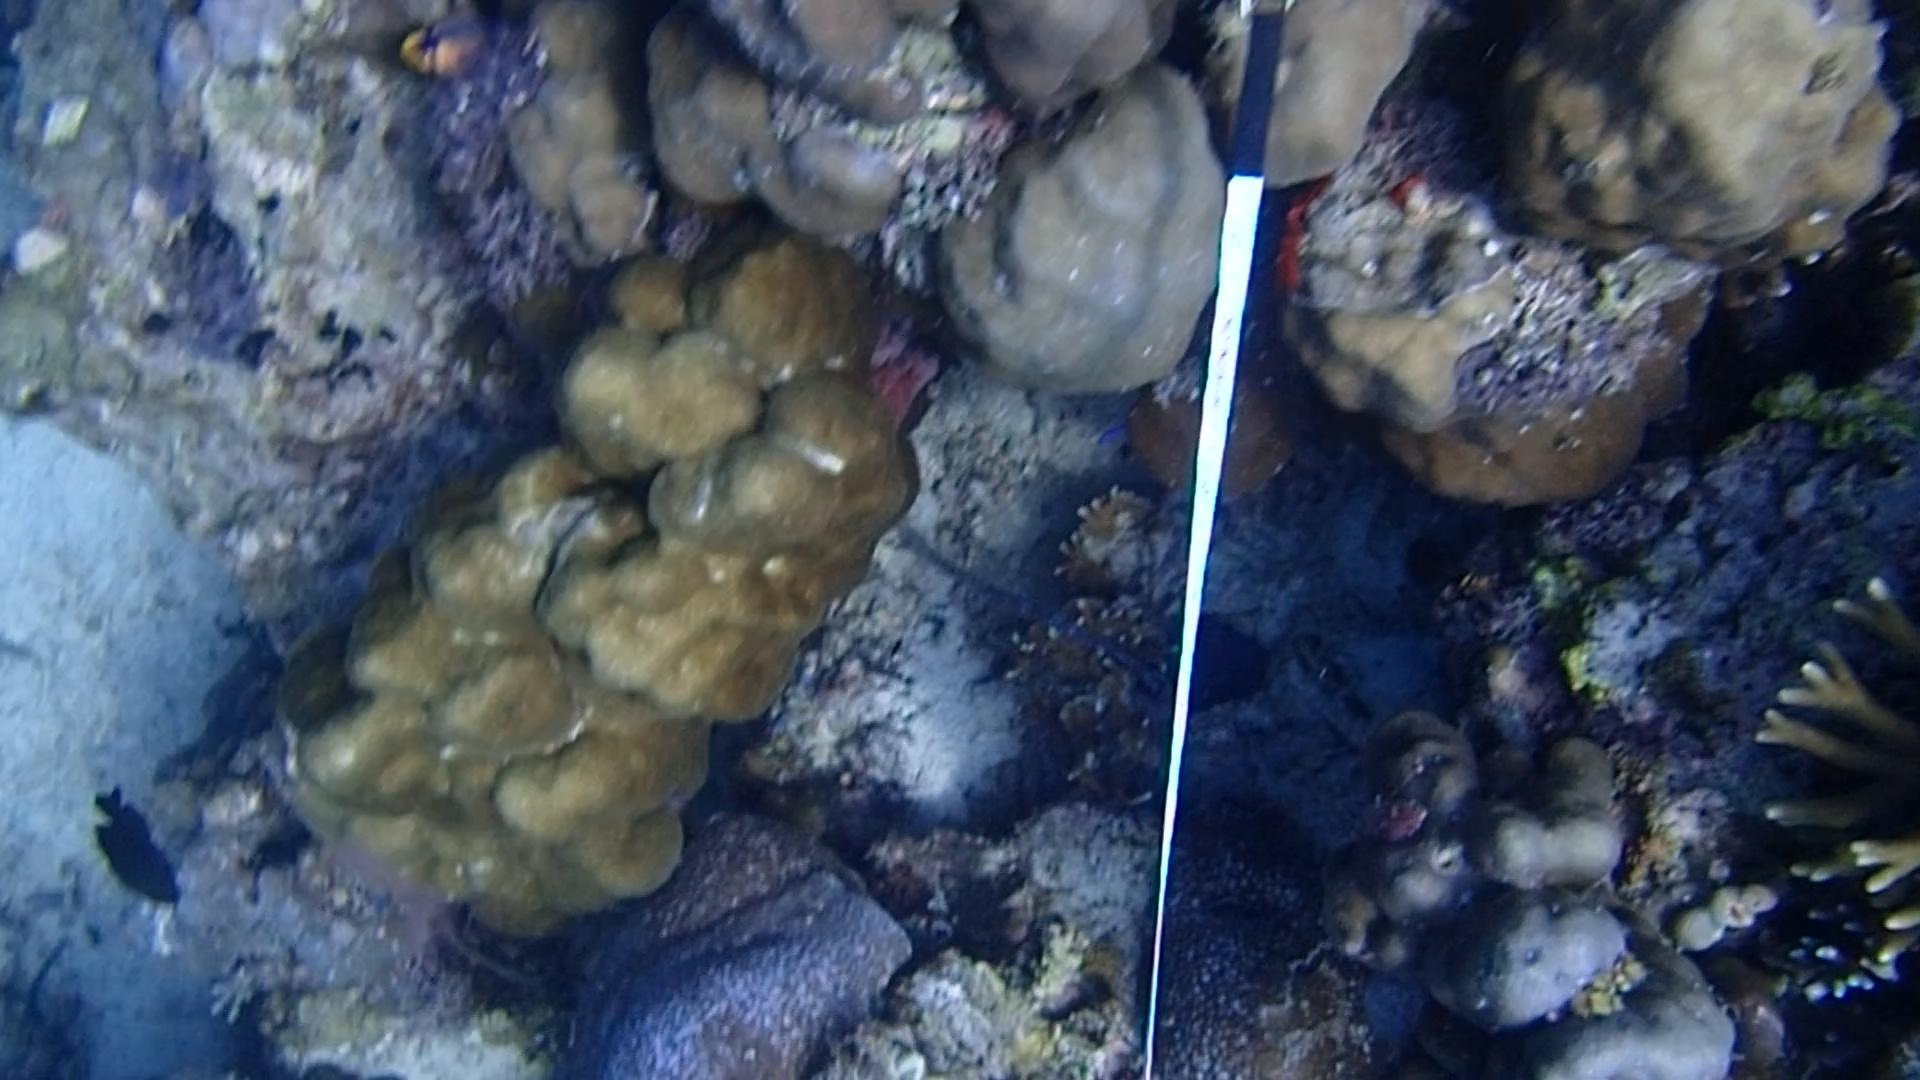Dark Fish: (75, 777, 191, 910)
